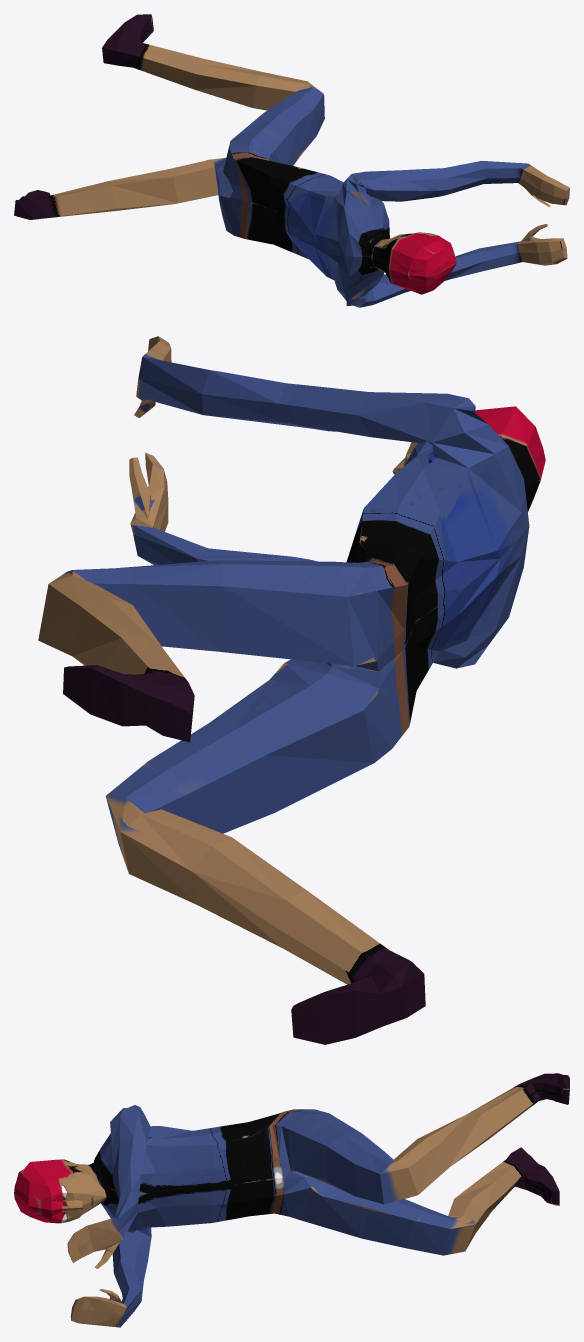
Rendered from mirrorman_000024.obj.
3 renders of one model, top to bottom at view 1: azimuth 30°, elevation 25°; view 2: azimuth 150°, elevation 25°; view 3: azimuth 270°, elevation 25°, orthographic. The views are drawn at different scales.
Parts seen in each view (by area): view 1: mirrorman_Cube.001_Material.001; view 2: mirrorman_Cube.001_Material.001; view 3: mirrorman_Cube.001_Material.001.
Part boxes in pixels (box(x1,y1,x2,y2)): mirrorman_Cube.001_Material.001: box(14, 14, 569, 307); mirrorman_Cube.001_Material.001: box(38, 336, 545, 1044); mirrorman_Cube.001_Material.001: box(14, 1073, 569, 1327).
Bounding box in the file's own units: 1.19 × 0.5496 × 1.52.
Materials: 1 (1 with a texture image).
